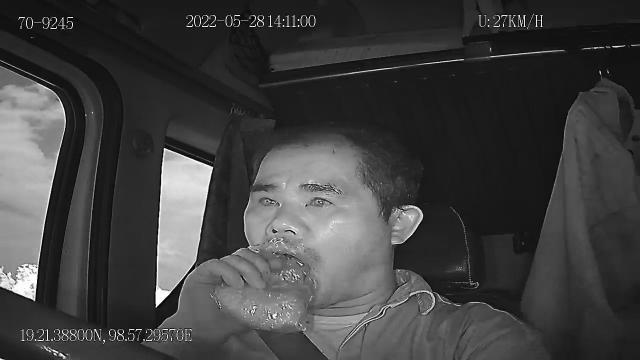SafeDriving: (298, 184, 340, 214), (250, 187, 285, 212)
Seatbelt: (251, 320, 343, 360)
